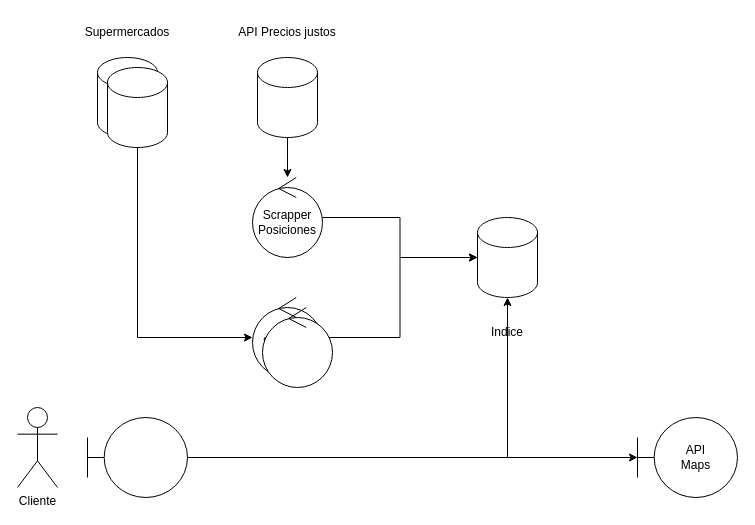
Some shapes in this 755 by 525 pixel diagram are drawn without their labels. Each missing label, with the centre of its shape:
Front end: point 137,457
Scrapper Precios: point 297,347
